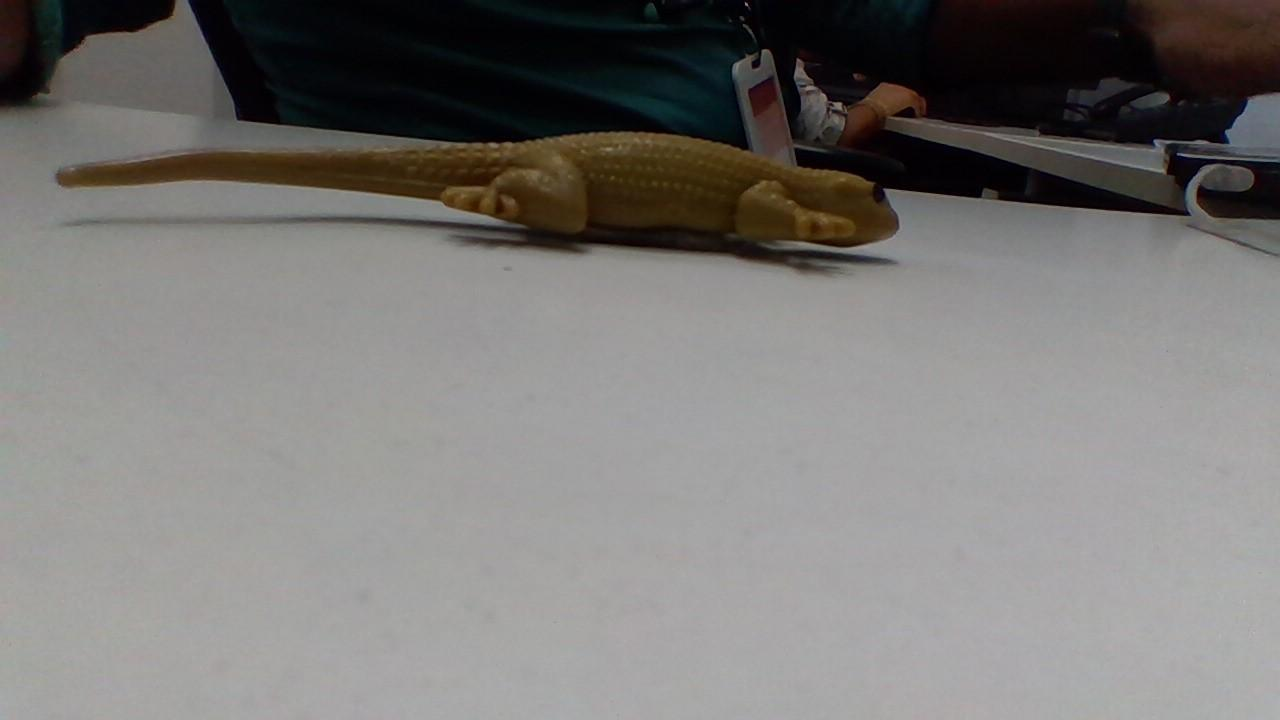lizard: (40, 107, 900, 260)
